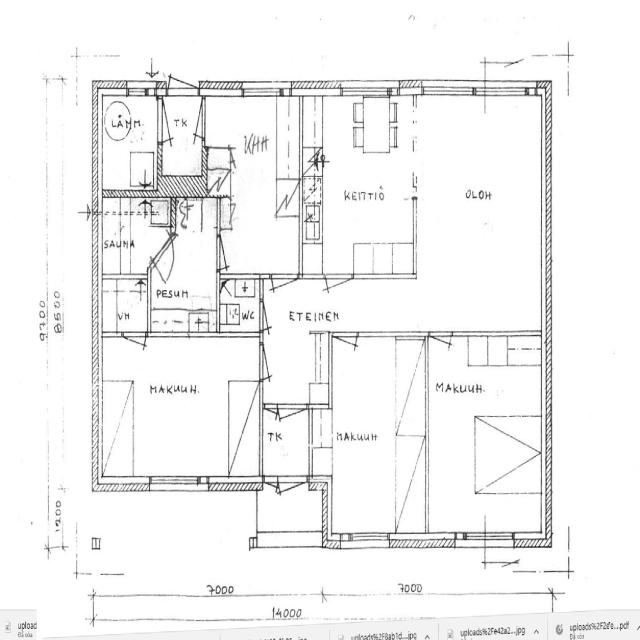door: (150, 239, 174, 286), (321, 268, 355, 300), (166, 73, 199, 99), (278, 404, 307, 433), (333, 329, 361, 358), (428, 328, 456, 357), (269, 270, 297, 298), (268, 475, 302, 498), (122, 328, 150, 354)
window: (146, 467, 213, 501), (334, 528, 394, 554), (418, 80, 479, 101), (241, 82, 288, 100), (126, 85, 151, 98)
zone: (415, 92, 545, 342), (94, 324, 266, 480), (305, 98, 417, 284), (327, 333, 423, 536), (447, 335, 542, 524), (262, 277, 332, 411), (150, 217, 219, 319), (98, 89, 162, 195), (253, 478, 327, 551), (99, 199, 160, 279), (158, 93, 204, 179), (261, 403, 311, 481), (99, 275, 150, 336), (274, 100, 310, 182), (218, 274, 262, 333)
